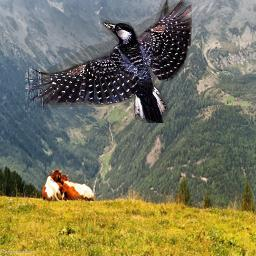Woodpecker: (25, 0, 192, 123)
